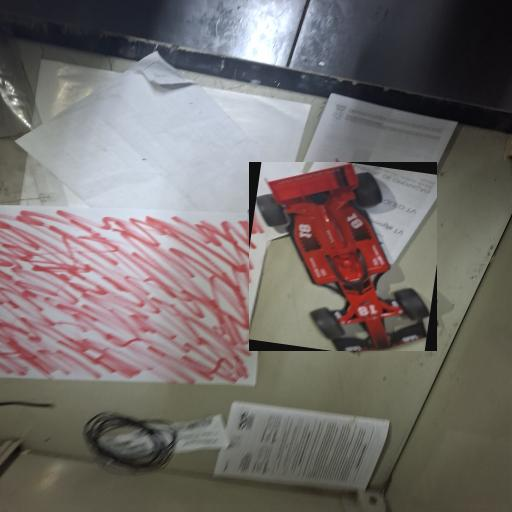carro: (249, 162, 436, 351)
